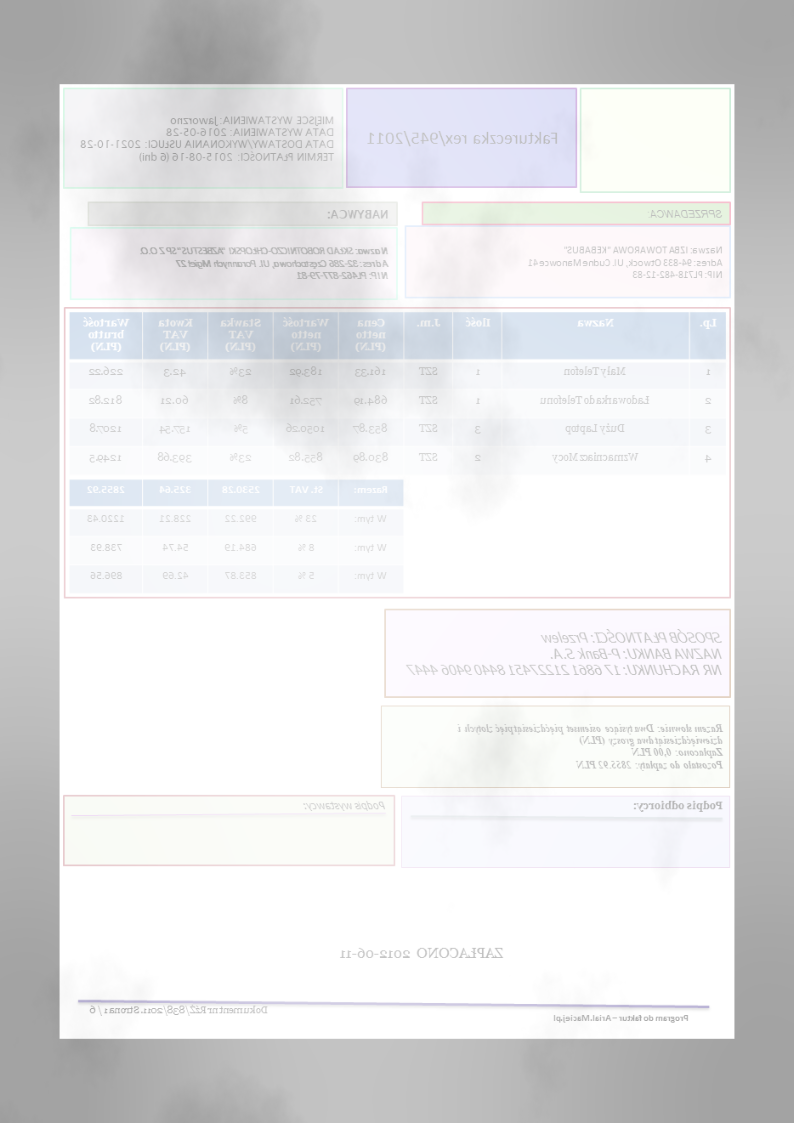Table: (69, 310, 728, 477), (68, 478, 405, 595)
TextBox: (406, 629, 723, 680), (456, 721, 726, 772), (78, 113, 337, 165), (139, 244, 392, 282), (526, 242, 726, 281), (366, 128, 562, 150), (88, 1002, 270, 1019), (338, 945, 508, 961), (552, 1012, 691, 1023), (631, 798, 725, 814), (304, 798, 388, 814), (646, 206, 725, 221), (326, 206, 391, 222)
